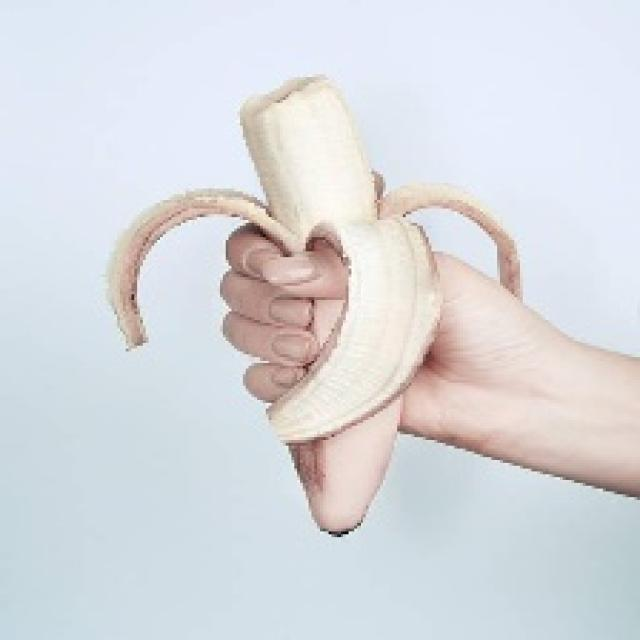Banana: (103, 71, 520, 446)
